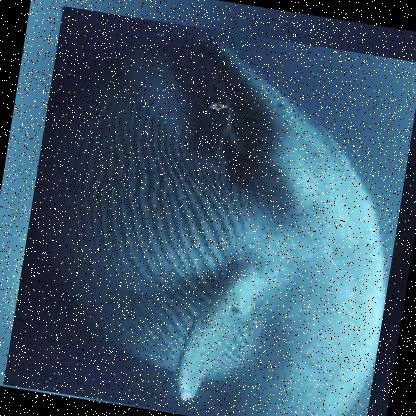blue_whale: (2, 5, 415, 415)
